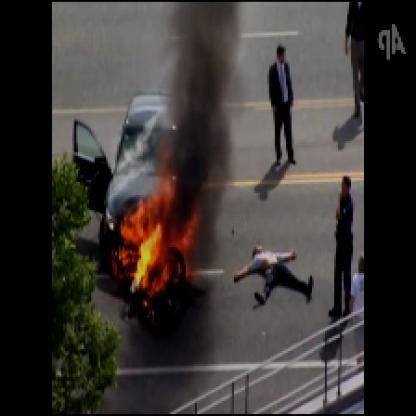Fire: (113, 182, 204, 301)
Smoke: (154, 2, 242, 245)
